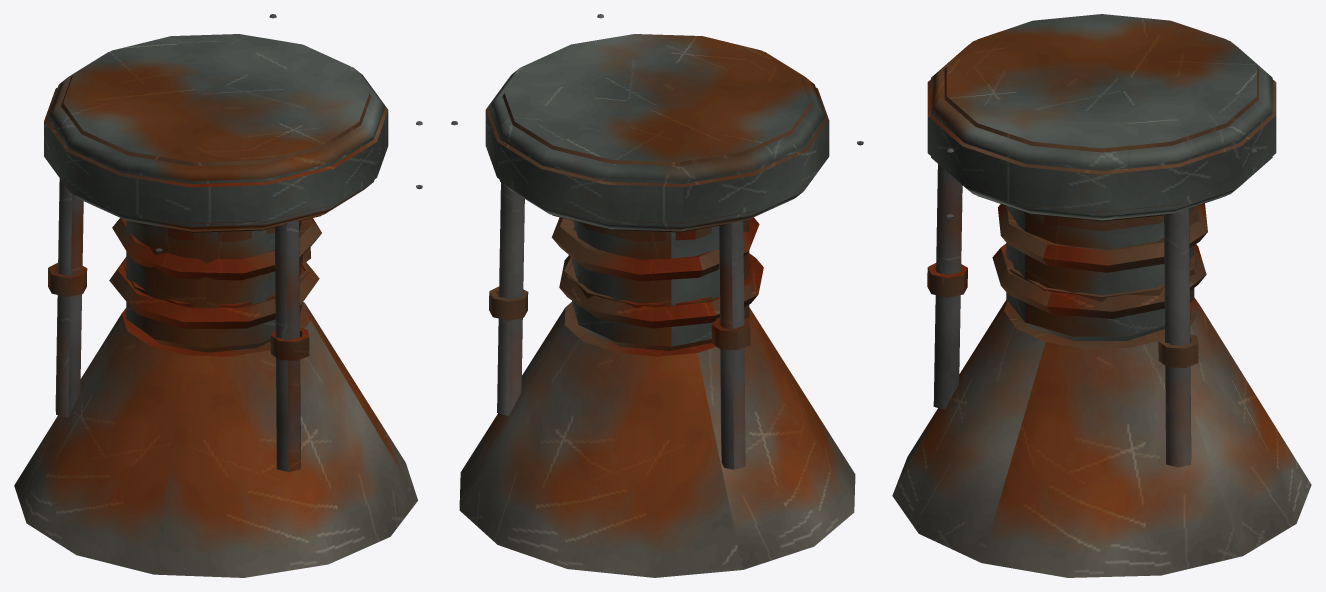
File: R4X_JumpDrive.glb
The picture shows the model from 3 angles, left to right: view 1: azimuth 30°, elevation 25°; view 2: azimuth 150°, elevation 25°; view 3: azimuth 270°, elevation 25°; orthographic projection. The views are drawn at different scales.
Visible parts, largest first — view 1: R4X_JumpDrive_Body; view 2: R4X_JumpDrive_Body; view 3: R4X_JumpDrive_Body.
Boxes of the visible parts, x1,y1,x2,y2 form: R4X_JumpDrive_Body: (14,14,422,577); R4X_JumpDrive_Body: (451,14,863,577); R4X_JumpDrive_Body: (892,14,1311,577).
Size of the model in its own units: 0.4638 by 0.51 by 0.4691.
Materials: 5 (4 with a texture image).
